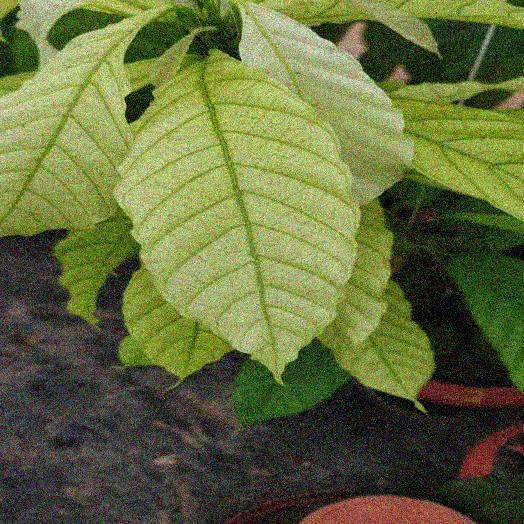Iron: (115, 51, 358, 378), (0, 10, 159, 234)
